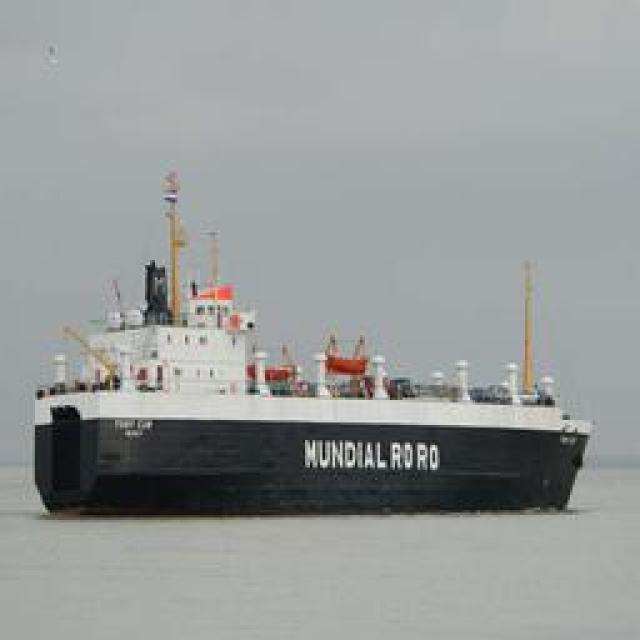ship2: (33, 168, 596, 520)
